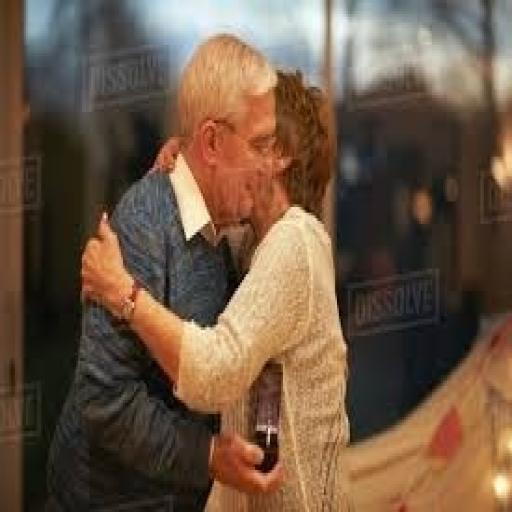hugging: (78, 64, 354, 510)
